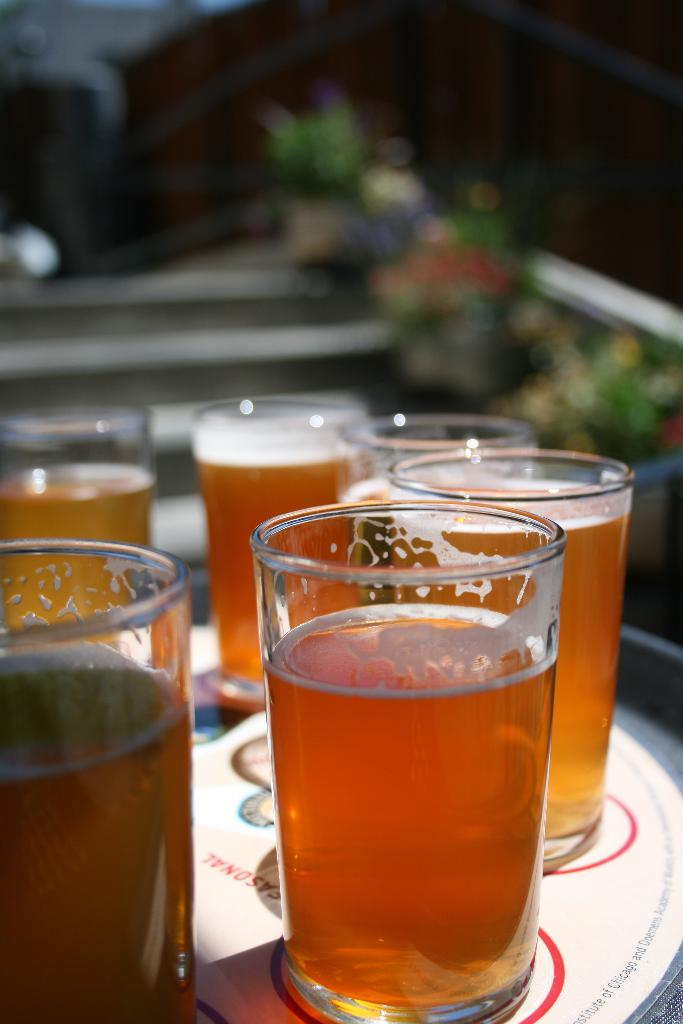Beer: (272, 604, 557, 1015), (396, 480, 624, 839), (2, 658, 189, 1023), (191, 441, 363, 677), (9, 454, 163, 655)
